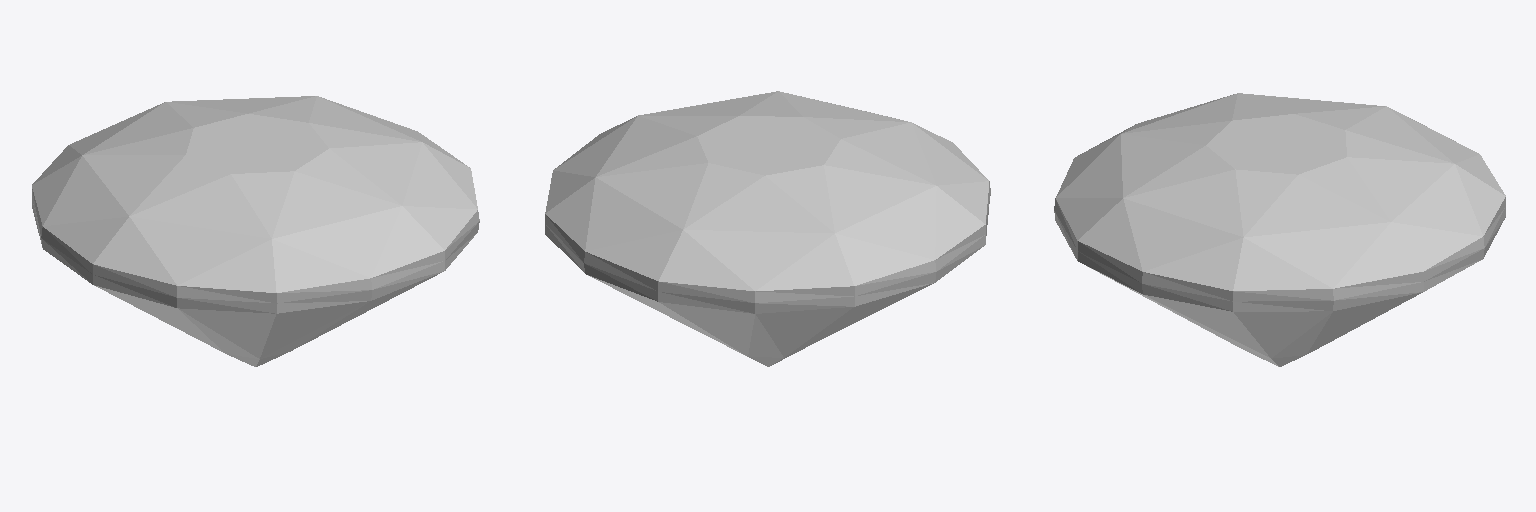
File: diamond.obj
The picture shows the model from 3 angles: view 1: azimuth 30°, elevation 25°; view 2: azimuth 150°, elevation 25°; view 3: azimuth 270°, elevation 25°; orthographic projection.
Parts seen in each view (by area): view 1: Diamond; view 2: Diamond; view 3: Diamond.
Boxes of the visible parts, <box> form: Diamond: <box>32,96,479,366</box>; Diamond: <box>545,91,990,366</box>; Diamond: <box>1054,93,1505,366</box>.
Size of the model in its own units: 0.2339 by 0.13 by 0.239.